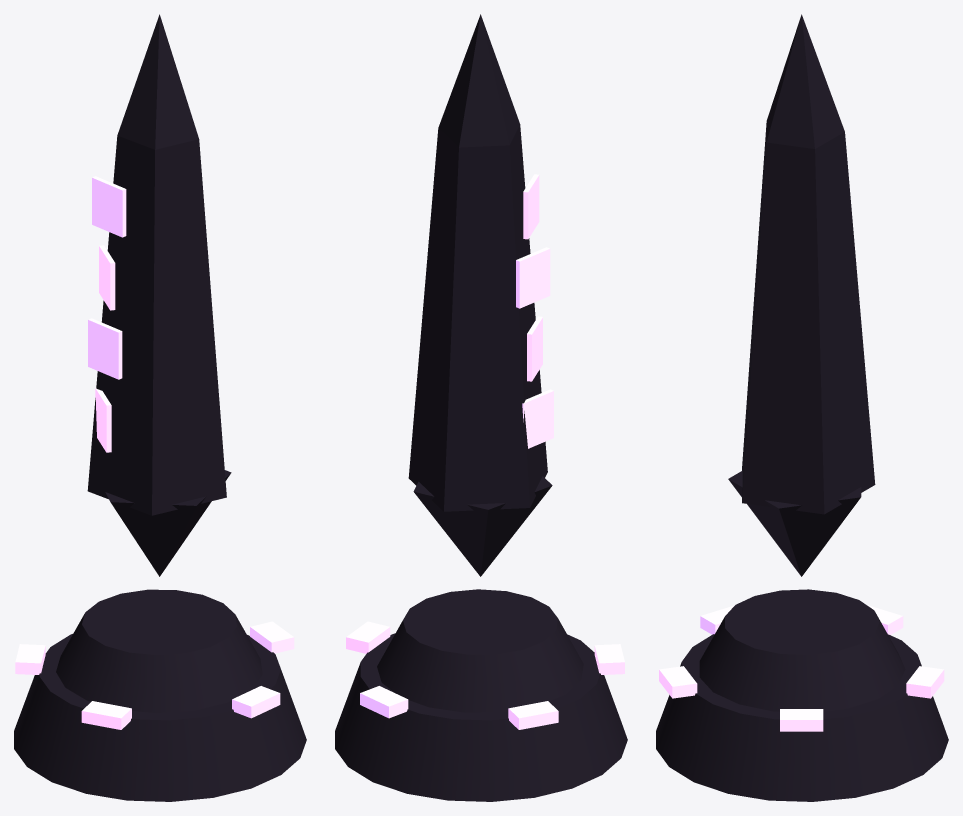
The model's file is voidobelisk.glb.
3 renders of one model, left to right at view 1: azimuth 30°, elevation 25°; view 2: azimuth 150°, elevation 25°; view 3: azimuth 270°, elevation 25°, orthographic.
Visible parts, largest first — view 1: shard, building; view 2: shard, building; view 3: shard, building.
Part boxes in pixels (left/top/right/bottom): shard: left=87, top=14, right=231, bottom=576; building: left=14, top=589, right=306, bottom=801; shard: left=408, top=14, right=553, bottom=576; building: left=335, top=589, right=627, bottom=801; shard: left=728, top=14, right=875, bottom=576; building: left=656, top=589, right=948, bottom=801.
Bounding box in the file's own units: 0.6781 × 1.85 × 0.6762.
